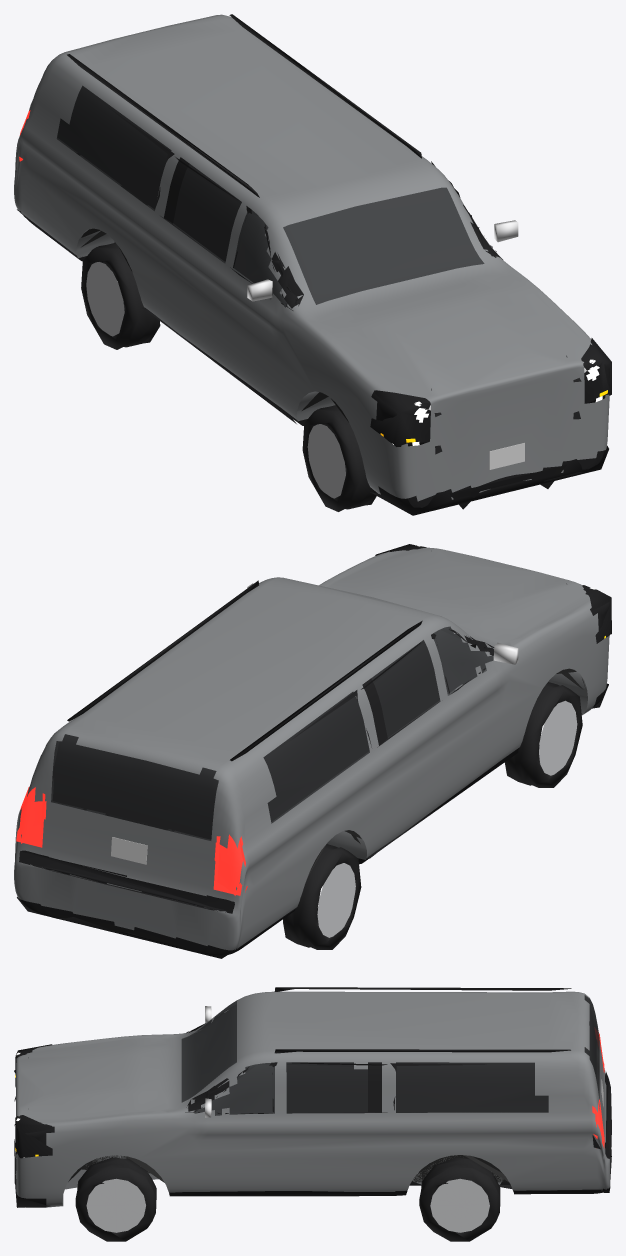
Rendered from fullSizeSuv-lod2.glb.
The picture shows the model from 3 angles, top to bottom: view 1: azimuth 30°, elevation 25°; view 2: azimuth 150°, elevation 25°; view 3: azimuth 270°, elevation 25°; orthographic projection. The views are drawn at different scales.
Visible parts, largest first — view 1: Body, Body_Lining, Body_Trim, Wheel_RR_Tyre, Wheel_FR_Tyre, Wheel_RR_Face, Wheel_FR_Face, RoofRail_R, RoofRail_L, PlateFront; view 2: Body, Body_Trim, Body_Lining, Wheel_RR_Tyre, Wheel_FR_Tyre, Wheel_FR_Face, Wheel_RR_Face, RoofRail_R, RoofRail_L, PlateRear; view 3: Body, Body_Lining, Body_Trim, Wheel_FL_Tyre, Wheel_RL_Tyre, Wheel_RL_Face, Wheel_FL_Face, RoofRail_L, RoofRail_R, Arch_R_L_Liner, Arch_F_L_Liner.
Boxes of the visible parts, x1,y1,x2,y2 form: Body: (14, 14, 609, 509); Body_Lining: (59, 88, 483, 306); Body_Trim: (17, 105, 611, 515); Wheel_RR_Tyre: (81, 242, 160, 349); Wheel_FR_Tyre: (302, 405, 377, 511); Wheel_RR_Face: (86, 262, 124, 336); Wheel_FR_Face: (307, 424, 345, 498); RoofRail_R: (67, 54, 259, 197); RoofRail_L: (229, 14, 421, 158); PlateFront: (489, 443, 524, 469); Body: (14, 547, 610, 955); Body_Trim: (16, 544, 611, 958); Body_Lining: (53, 627, 493, 837); Wheel_RR_Tyre: (283, 844, 361, 949); Wheel_FR_Tyre: (504, 682, 582, 787); Wheel_FR_Face: (539, 700, 577, 775); Wheel_RR_Face: (317, 863, 355, 937); RoofRail_R: (230, 620, 422, 761); RoofRail_L: (67, 580, 258, 721); PlateRear: (111, 837, 147, 864); Body: (16, 991, 610, 1207); Body_Lining: (182, 1005, 595, 1114); Body_Trim: (14, 1007, 611, 1207); Wheel_FL_Tyre: (75, 1157, 156, 1241); Wheel_RL_Tyre: (419, 1157, 500, 1241); Wheel_RL_Face: (430, 1178, 489, 1232); Wheel_FL_Face: (86, 1178, 145, 1232); RoofRail_L: (274, 1049, 570, 1053); RoofRail_R: (274, 987, 571, 991); Arch_R_L_Liner: (412, 1155, 508, 1182); Arch_F_L_Liner: (68, 1155, 164, 1182).
Size of the model in its own units: 2.3 by 1.92 by 5.74.
